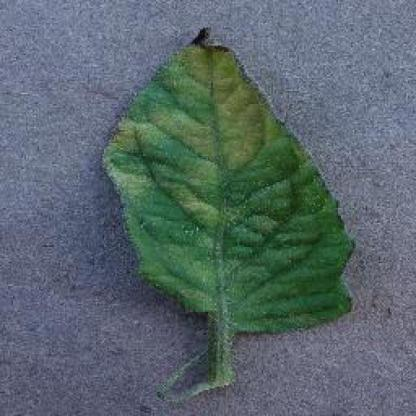Tomato_Leaf_Mold: (107, 31, 354, 328)
